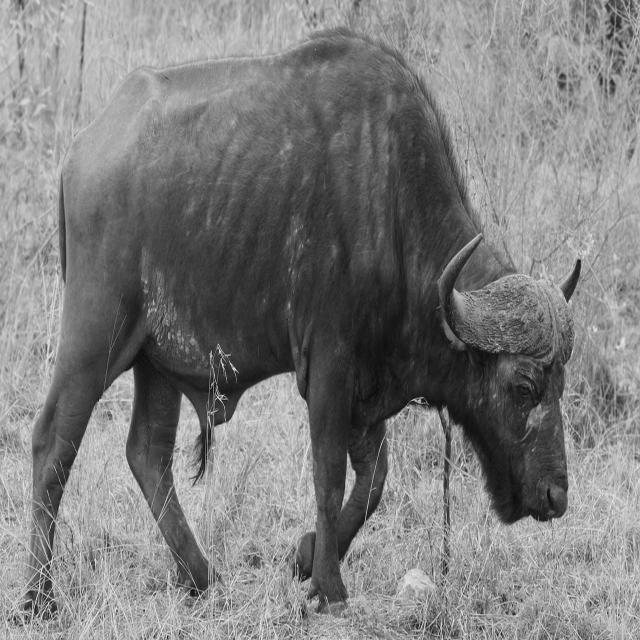Buffalo: (19, 25, 583, 616)
